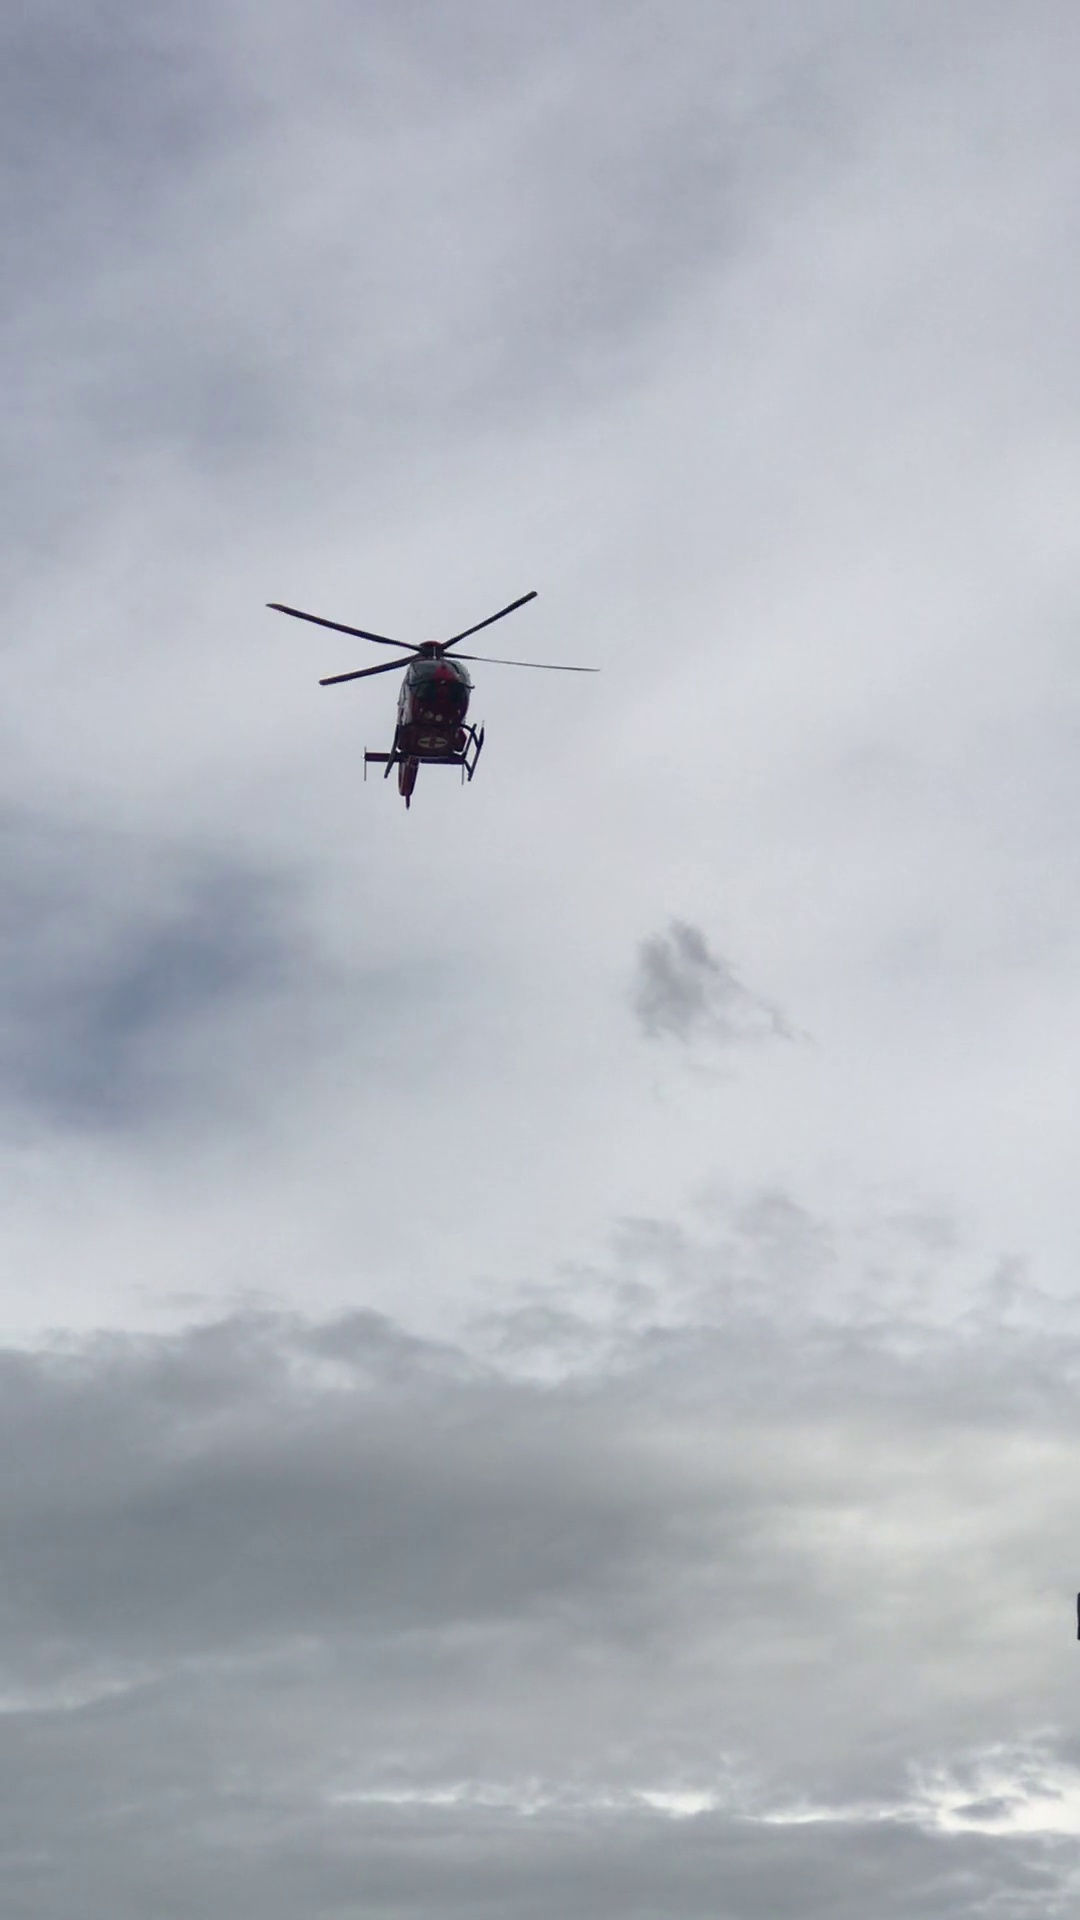heli: (261, 592, 603, 808)
